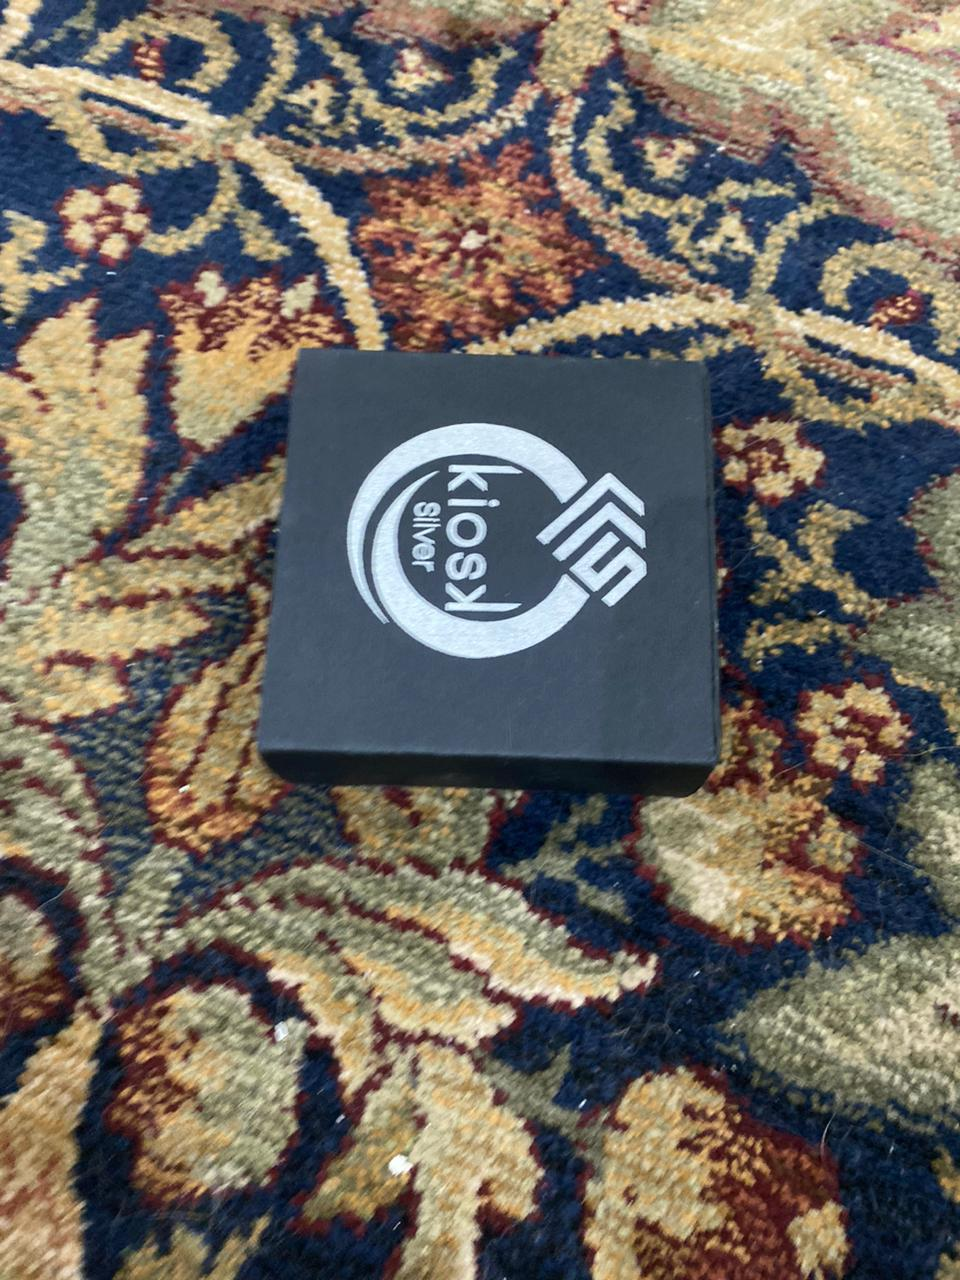Red Box: (249, 334, 721, 802)
